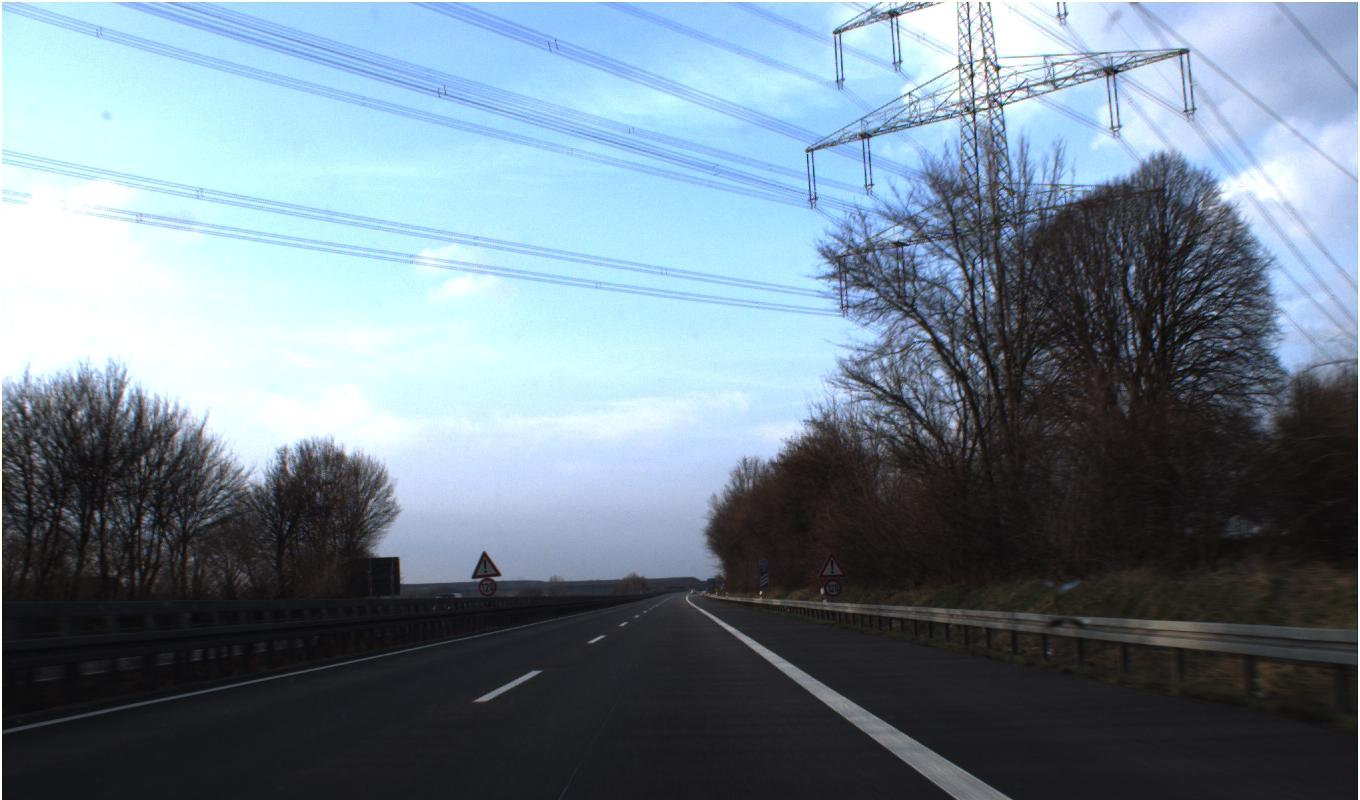danger: (470, 551, 502, 578), (817, 550, 847, 578)
prohibitory: (823, 579, 843, 598), (477, 578, 497, 596)
